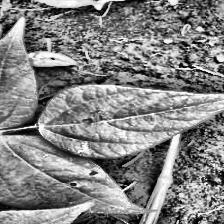ALS: (0, 134, 157, 214), (37, 88, 224, 150)
